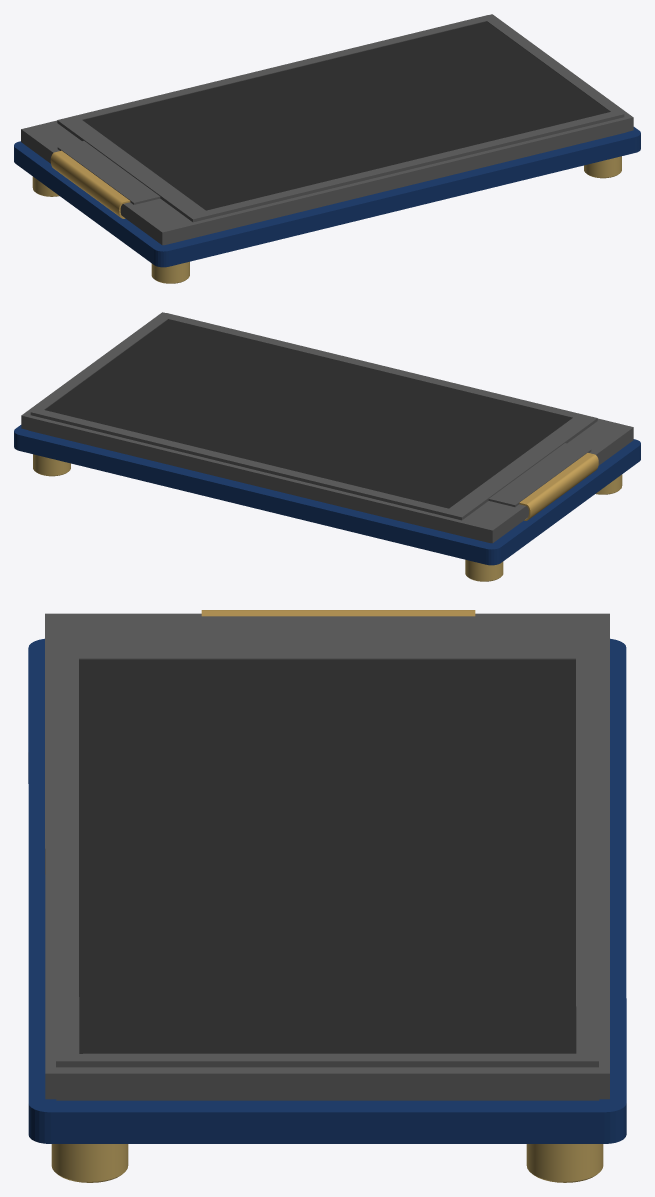
The model's file is Unnamed-1_9INCH-LCD-MODULE_ASM.gltf.
The picture shows the model from 3 angles, top to bottom: view 1: azimuth 30°, elevation 25°; view 2: azimuth 150°, elevation 25°; view 3: azimuth 270°, elevation 25°; orthographic projection. The views are drawn at different scales.
Parts seen in each view (by area): view 1: 1_9INCH-170X320-LCD, 1_9INCH-LCD-PCB, STUDS-M2XH2_006, STUDS-M2XH2_5; view 2: 1_9INCH-170X320-LCD, 1_9INCH-LCD-PCB, STUDS-M2XH2_008, STUDS-M2XH2_007; view 3: 1_9INCH-170X320-LCD, 1_9INCH-LCD-PCB, STUDS-M2XH2_5, STUDS-M2XH2_007.
Boxes of the visible parts, <box> form: 1_9INCH-170X320-LCD: <box>21,14,633,245</box>; 1_9INCH-LCD-PCB: <box>14,127,640,267</box>; STUDS-M2XH2_006: <box>151,261,189,283</box>; STUDS-M2XH2_5: <box>584,156,621,178</box>; 1_9INCH-170X320-LCD: <box>21,312,633,543</box>; 1_9INCH-LCD-PCB: <box>14,425,640,565</box>; STUDS-M2XH2_008: <box>465,559,503,581</box>; STUDS-M2XH2_007: <box>33,454,70,476</box>; 1_9INCH-170X320-LCD: <box>45,610,609,1100</box>; 1_9INCH-LCD-PCB: <box>28,638,626,1143</box>; STUDS-M2XH2_5: <box>51,1144,128,1182</box>; STUDS-M2XH2_007: <box>526,1144,603,1182</box>.
Bounding box in the file's own units: 0.0512 × 0.007 × 0.0273.
